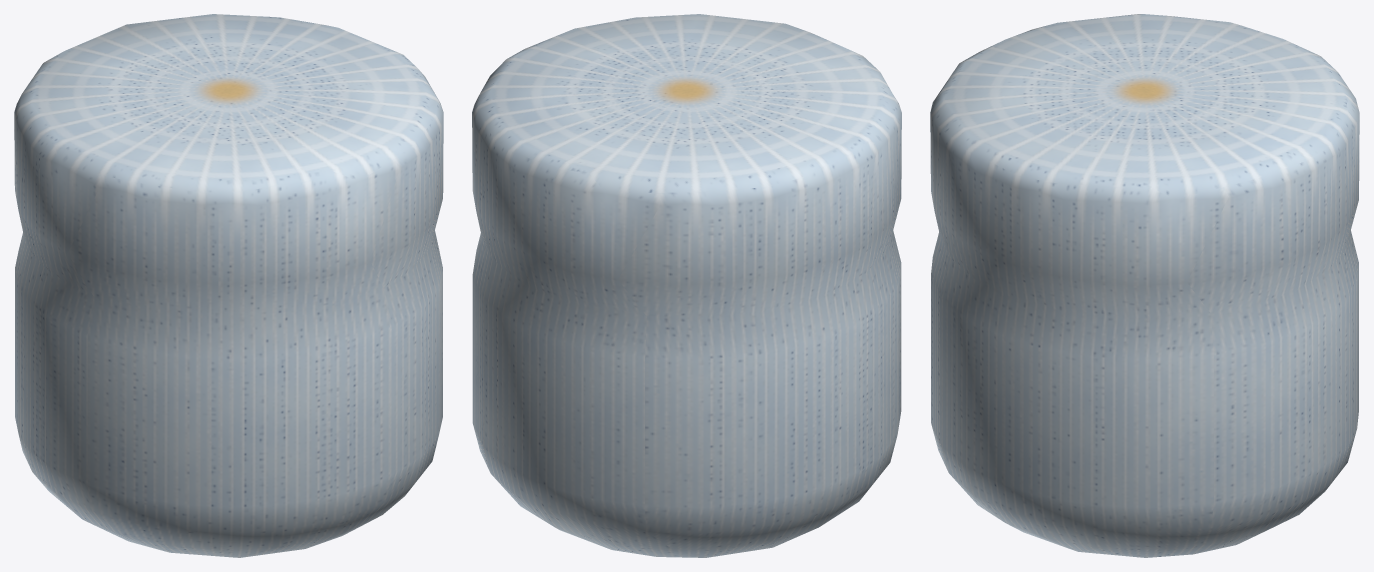
File: rock_b.glb
3 views of the same model, side by side, from view 1: azimuth 30°, elevation 25°; view 2: azimuth 150°, elevation 25°; view 3: azimuth 270°, elevation 25° (orthographic).
Visible parts, largest first — view 1: Rock; view 2: Rock; view 3: Rock.
Part boxes in pixels (bbox=[...]): Rock: bbox=[14, 14, 443, 557]; Rock: bbox=[472, 14, 901, 557]; Rock: bbox=[930, 14, 1359, 557].
Bounding box in the file's own units: 2.01 × 2.24 × 2.01.
Materials: 1 (1 with a texture image).
